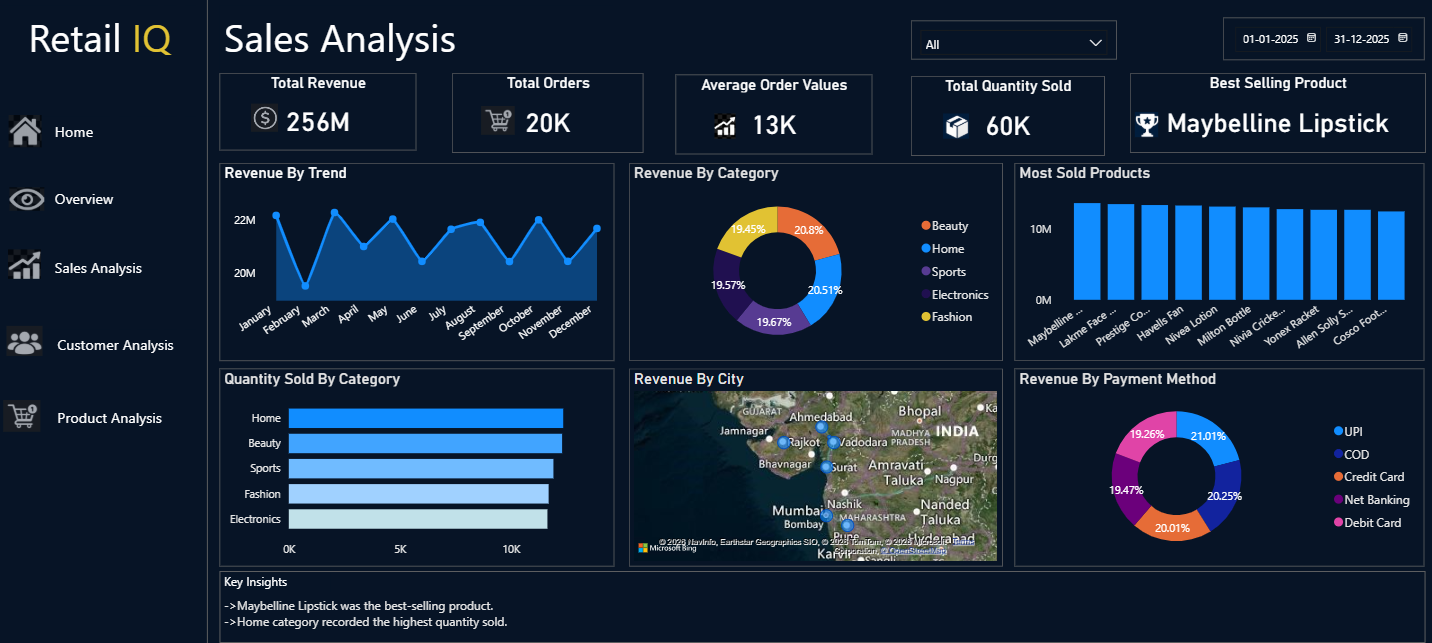

This screenshot's page, from the dashboard's own definition file:
{"tool":"powerbi","page":{"name":"Sales Analysis","canvas":[1600,720],"ordinal":2},"visuals":[{"type":"shape","box":[0,0,232,720],"z":0},{"type":"textbox","box":[0,8,224,88],"z":1000},{"type":"textbox","box":[0,132,224,52],"z":2000},{"type":"textbox","box":[0,206,224,52],"z":3000},{"type":"textbox","box":[0,284,224,52],"z":4000},{"type":"textbox","box":[0,368,224,52],"z":5000},{"type":"card","title":"Total Revenue","fields":{"Values":["Sum(Cleaned_Ecommercedataset.order_value)"]},"box":[245.7,82.9,218.6,85.7],"z":6000},{"type":"card","title":"Total Orders","fields":{"Values":["CountNonNull(Cleaned_Ecommercedataset.order_id)"]},"box":[502.9,82.9,212.9,88.6],"z":7000},{"type":"card","title":"Average Order Values","fields":{"Values":["Avg(Cleaned_Ecommercedataset.order_value)"]},"box":[751.7,85,218.3,88.3],"z":8000},{"type":"card","title":"Total Quantity Sold","fields":{"Values":["Sum(Cleaned_Ecommercedataset.quantity)"]},"box":[1013.3,86.7,215,88.3],"z":9000},{"type":"image","box":[3.3,446.7,43.3,35],"z":10000},{"type":"image","box":[8.3,358.3,40,45],"z":11000},{"type":"image","box":[10,130,38,36],"z":12000},{"type":"image","box":[10,273.3,36.7,45],"z":13000},{"type":"textbox","box":[46.7,450,176.7,51.7],"z":14000},{"type":"image","box":[11.7,205,38.3,36.7],"z":15000},{"type":"textbox","box":[245.7,8.6,437.1,71.4],"z":16000},{"type":"slicer","fields":{"Values":["Cleaned_Ecommercedataset.payment_method"]},"box":[1013.3,25,228.3,43.3],"z":17000},{"type":"lineChart","title":"Revenue By Trend","fields":{"Y":["Sum(Cleaned_Ecommercedataset.order_value)"],"Category":["Cleaned_Ecommercedataset.order_date.Variation.Date Hierarchy.Month"]},"box":[245,183.3,438.3,220],"z":18000},{"type":"donutChart","title":"Revenue By Category","fields":{"Category":["Cleaned_Ecommercedataset.category"],"Y":["Sum(Cleaned_Ecommercedataset.order_value)"]},"box":[700,183.3,415,220],"z":19000},{"type":"clusteredColumnChart","title":"Most Sold Products","fields":{"Category":["Cleaned_Ecommercedataset.product_name"],"Y":["Sum(Cleaned_Ecommercedataset.order_value)"]},"box":[1128.3,183.3,455,220],"z":20000},{"type":"slicer","fields":{"Values":["Cleaned_Ecommercedataset.order_date"]},"box":[1360,21.4,224.3,47.1],"z":21000},{"type":"clusteredBarChart","title":"Quantity Sold By Category","fields":{"Y":["Sum(Cleaned_Ecommercedataset.quantity)"],"Category":["Cleaned_Ecommercedataset.category"]},"box":[245,411.7,438.3,220],"z":22000},{"type":"map","title":"Revenue By City","fields":{"Category":["Cleaned_Ecommercedataset.city"],"Size":["Sum(Cleaned_Ecommercedataset.order_value)"]},"box":[700,412,415,220],"z":23000},{"type":"card","title":"Best Selling Product","fields":{"Values":["Min(Cleaned_Ecommercedataset.product_name)"]},"box":[1256.7,83.3,328.3,88.3],"z":24000},{"type":"donutChart","title":"Revenue By Payment Method","fields":{"Category":["Cleaned_Ecommercedataset.payment_method"],"Y":["Sum(Cleaned_Ecommercedataset.order_value)"]},"box":[1128.3,411.7,455,220],"z":25000},{"type":"textbox","box":[245,633.3,123.3,31.7],"z":26000},{"type":"textbox","box":[245,660,1340,53.3],"z":27000},{"type":"shape","box":[245,636.7,1340,80],"z":28000},{"type":"shape","box":[8.3,360,195,61.7],"z":29000},{"type":"shape","box":[1.7,433.3,195,61.7],"z":30000},{"type":"shape","box":[3.3,198.3,195,61.7],"z":31000},{"type":"shape","box":[8.3,115,195,61.7],"z":32000},{"type":"image","box":[280,110,30,46],"z":33000},{"type":"image","box":[528,120,52,32],"z":34000},{"type":"image","box":[782,128,50,28],"z":35000},{"type":"image","box":[1038,128,50,28],"z":36000},{"type":"image","box":[1250,126,50,28],"z":36001}]}

Visuals, with their boxes in screenshot pixels (x1, y1, x2, y2), scaled from the page's 1600x720 canvas onto the 1432x643 screenshot:
shape: 0:0:208:642
textbox: 0:7:200:86
textbox: 0:118:200:164
textbox: 0:184:200:230
textbox: 0:254:200:300
textbox: 0:329:200:375
"Total Revenue" card: 220:74:416:151
"Total Orders" card: 450:74:641:153
"Average Order Values" card: 673:76:868:155
"Total Quantity Sold" card: 907:77:1099:156
image: 3:399:42:430
image: 7:320:43:360
image: 9:116:43:148
image: 9:244:42:284
textbox: 42:402:200:448
image: 10:183:45:216
textbox: 220:8:611:71
slicer - Cleaned_Ecommercedataset.payment_method: 907:22:1111:61
"Revenue By Trend" lineChart: 219:164:612:360
"Revenue By Category" donutChart: 626:164:998:360
"Most Sold Products" clusteredColumnChart: 1010:164:1417:360
slicer - Cleaned_Ecommercedataset.order_date: 1217:19:1418:61
"Quantity Sold By Category" clusteredBarChart: 219:368:612:564
"Revenue By City" map: 626:368:998:564
"Best Selling Product" card: 1125:74:1419:153
"Revenue By Payment Method" donutChart: 1010:368:1417:564
textbox: 219:566:330:594
textbox: 219:589:1419:637
shape: 219:569:1419:640
shape: 7:322:182:377
shape: 2:387:176:442
shape: 3:177:177:232
shape: 7:103:182:158
image: 251:98:277:139
image: 473:107:519:136
image: 700:114:745:139
image: 929:114:974:139
image: 1119:113:1164:138
